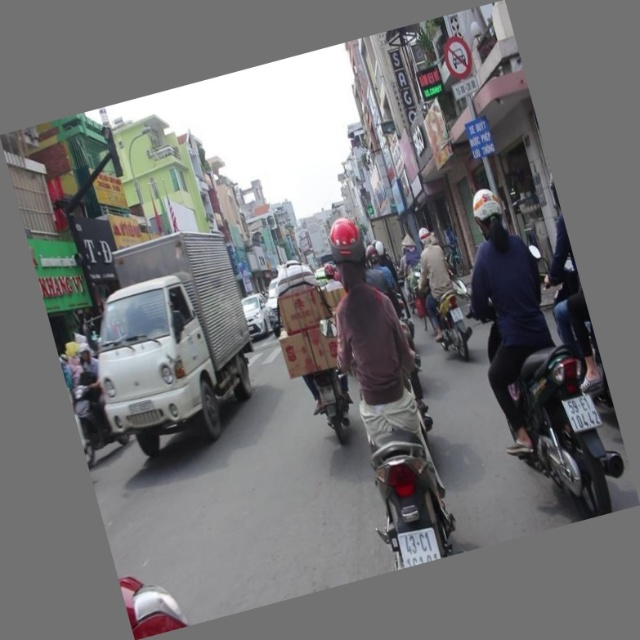P.103a: (437, 27, 481, 87)
